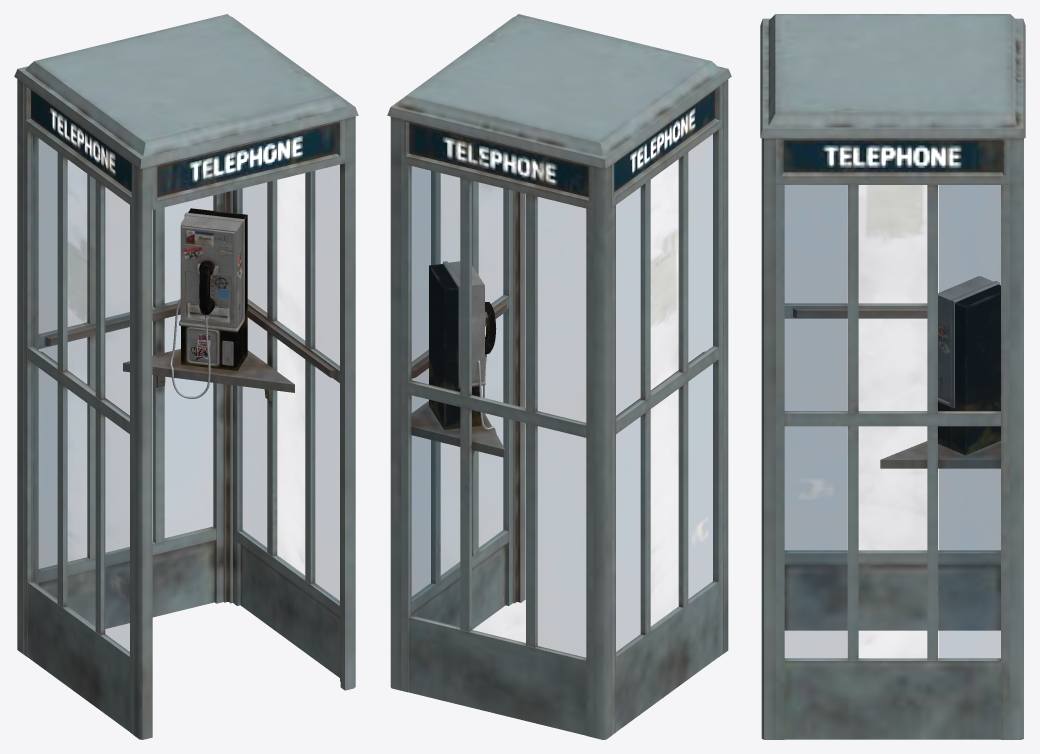
Rendered from phone_booth.glb.
3 views of the same model, side by side, from view 1: azimuth 30°, elevation 25°; view 2: azimuth 150°, elevation 25°; view 3: azimuth 270°, elevation 25° (orthographic). The views are drawn at different scales.
Parts seen in each view (by area): view 1: bolt_low001_box_tex_0, bolt_low001_glass_tex_0, bolt_low001_phone_tex_0; view 2: bolt_low001_box_tex_0, bolt_low001_glass_tex_0, bolt_low001_phone_tex_0; view 3: bolt_low001_box_tex_0, bolt_low001_glass_tex_0, bolt_low001_phone_tex_0.
Boxes of the visible parts, x1,y1,x2,y2 form: bolt_low001_box_tex_0: (14,14,358,739); bolt_low001_glass_tex_0: (31,133,339,653); bolt_low001_phone_tex_0: (179,208,247,370); bolt_low001_box_tex_0: (387,14,731,739); bolt_low001_glass_tex_0: (410,133,714,658); bolt_low001_phone_tex_0: (429,261,496,429); bolt_low001_box_tex_0: (760,14,1025,739); bolt_low001_glass_tex_0: (785,185,1000,658); bolt_low001_phone_tex_0: (938,276,1000,455).
Bounding box in the file's own units: 28.41 × 73.33 × 28.41.
4 materials, 4 textured.
